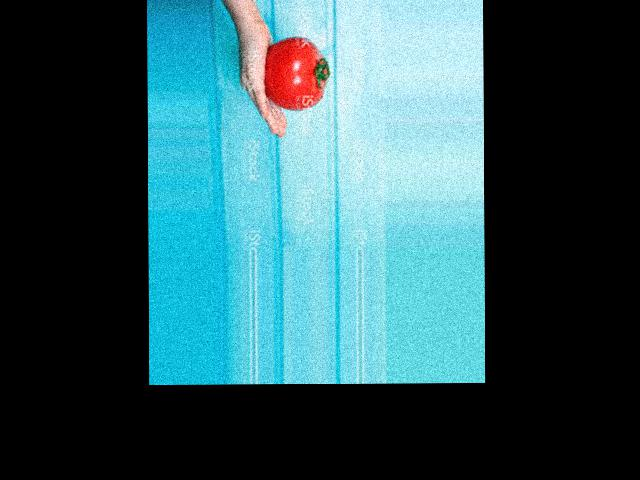tomato: (263, 38, 329, 111)
